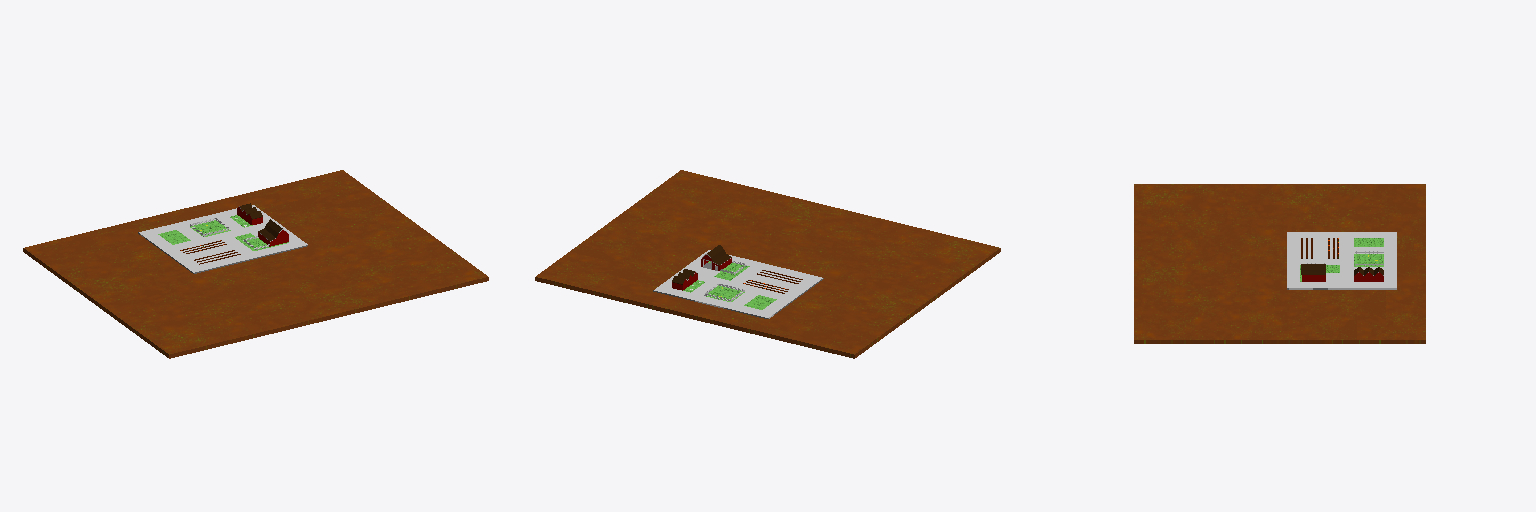
The picture shows the model from 3 angles: view 1: azimuth 30°, elevation 25°; view 2: azimuth 150°, elevation 25°; view 3: azimuth 270°, elevation 25°; orthographic projection.
Visible parts, largest first — view 1: granja_pCube236_polySurface102, granja_pCube236_polySurface22, granja_pCube236_polySurface103; view 2: granja_pCube236_polySurface102, granja_pCube236_polySurface22; view 3: granja_pCube236_polySurface102, granja_pCube236_polySurface22.
Boxes of the visible parts, box(x1,y1,x2,y2) form: granja_pCube236_polySurface102: box(23, 170, 488, 358); granja_pCube236_polySurface22: box(138, 205, 307, 273); granja_pCube236_polySurface103: box(258, 219, 288, 246); granja_pCube236_polySurface102: box(535, 170, 1000, 358); granja_pCube236_polySurface22: box(653, 250, 823, 318); granja_pCube236_polySurface102: box(1134, 184, 1425, 343); granja_pCube236_polySurface22: box(1287, 232, 1396, 289).
Size of the model in its own units: 267 by 16.81 by 211.
14 materials, 2 textured.